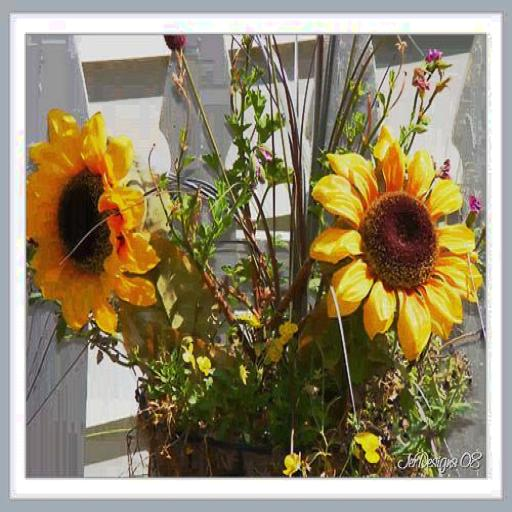sunflower: (314, 122, 482, 361), (26, 102, 156, 343)
